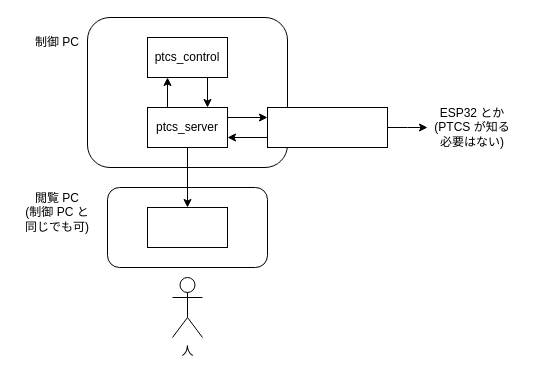
Image size: 534x376. Some labels were removed from this diagram. Here are the shapes that lost their labels. From the top down, the box of each, then its label:
(266, 106, 388, 148): ptcs_bridge
(146, 206, 228, 248): ptcs_ui
